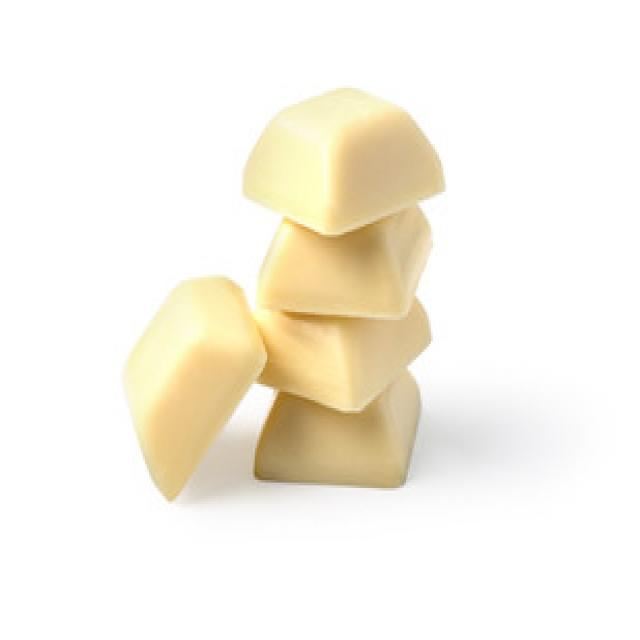chocolate: (238, 85, 444, 491), (117, 276, 267, 502)
